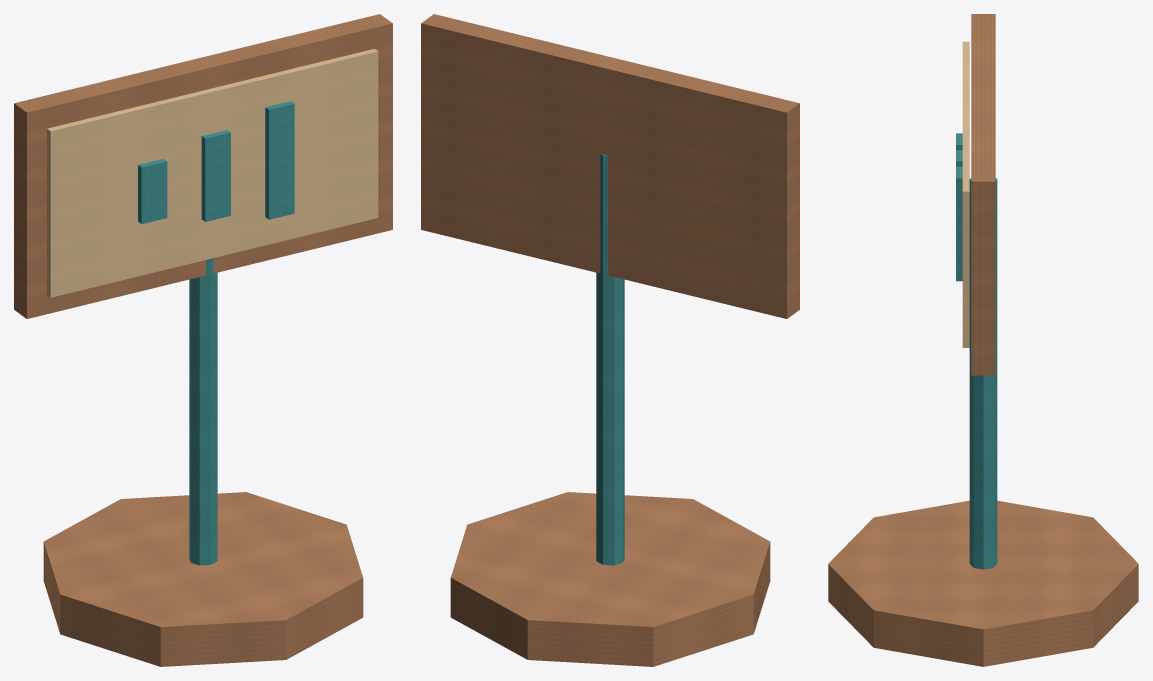
The model's file is atlas100-s093-a11.glb.
3 renders of one model, left to right at view 1: azimuth 30°, elevation 25°; view 2: azimuth 150°, elevation 25°; view 3: azimuth 270°, elevation 25°, orthographic. The views are drawn at different scales.
Parts seen in each view (by area): view 1: atlas100-s093-a11:part-003, atlas100-s093-a11:part-000, atlas100-s093-a11:part-002, atlas100-s093-a11:part-001, atlas100-s093-a11:part-006, atlas100-s093-a11:part-005, atlas100-s093-a11:part-004; view 2: atlas100-s093-a11:part-002, atlas100-s093-a11:part-000, atlas100-s093-a11:part-001; view 3: atlas100-s093-a11:part-000, atlas100-s093-a11:part-002, atlas100-s093-a11:part-001, atlas100-s093-a11:part-003, atlas100-s093-a11:part-006.
Boxes of the visible parts, box(x1,y1,x2,y2) form: atlas100-s093-a11:part-003: box(47, 48, 378, 297); atlas100-s093-a11:part-000: box(43, 492, 363, 666); atlas100-s093-a11:part-002: box(14, 14, 392, 318); atlas100-s093-a11:part-001: box(189, 258, 217, 565); atlas100-s093-a11:part-006: box(265, 101, 294, 219); atlas100-s093-a11:part-005: box(201, 130, 230, 221); atlas100-s093-a11:part-004: box(138, 159, 167, 223); atlas100-s093-a11:part-002: box(421, 14, 799, 318); atlas100-s093-a11:part-000: box(450, 492, 770, 666); atlas100-s093-a11:part-001: box(596, 154, 624, 565); atlas100-s093-a11:part-000: box(828, 500, 1138, 666); atlas100-s093-a11:part-002: box(971, 14, 995, 375); atlas100-s093-a11:part-001: box(969, 178, 997, 569); atlas100-s093-a11:part-003: box(962, 41, 969, 347); atlas100-s093-a11:part-006: box(956, 166, 962, 281).
Bounding box in the file's own units: 1.15 × 1.61 × 0.9.
3 materials, 3 textured.
